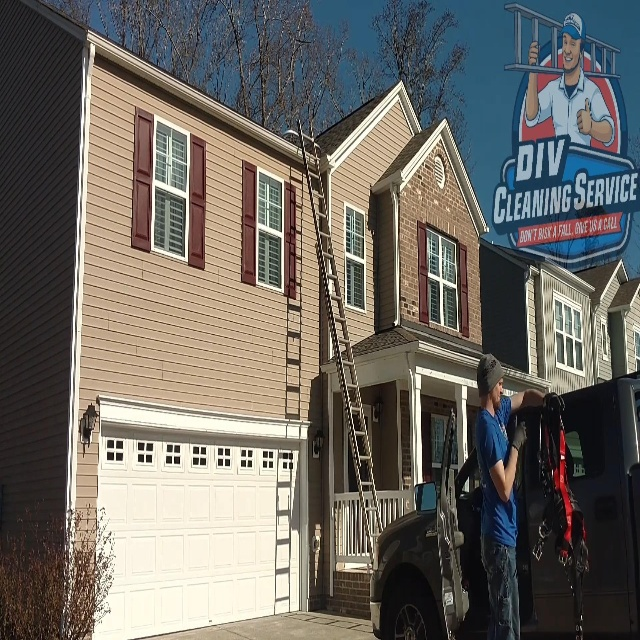Arnes_seguridad: (520, 377, 590, 628)
